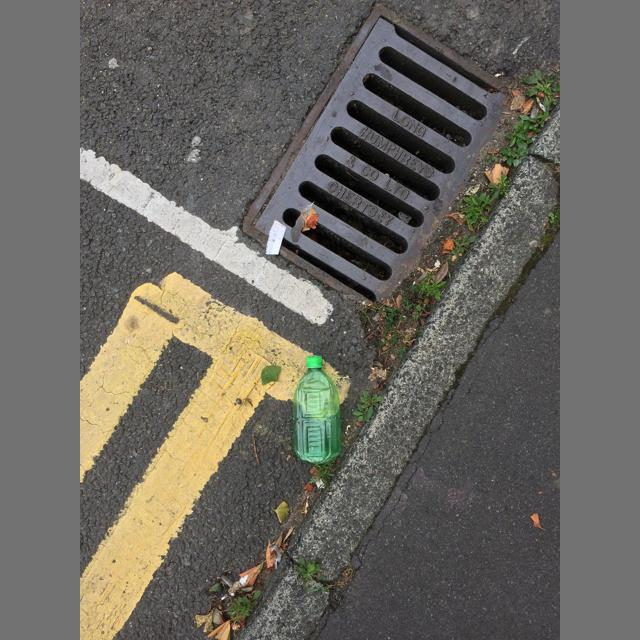litter: (292, 356, 341, 464), (266, 220, 286, 255)
